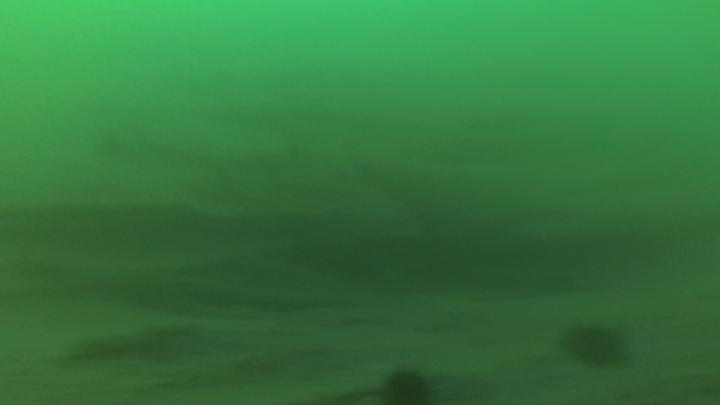echinus: (559, 320, 630, 373), (374, 365, 434, 405)
